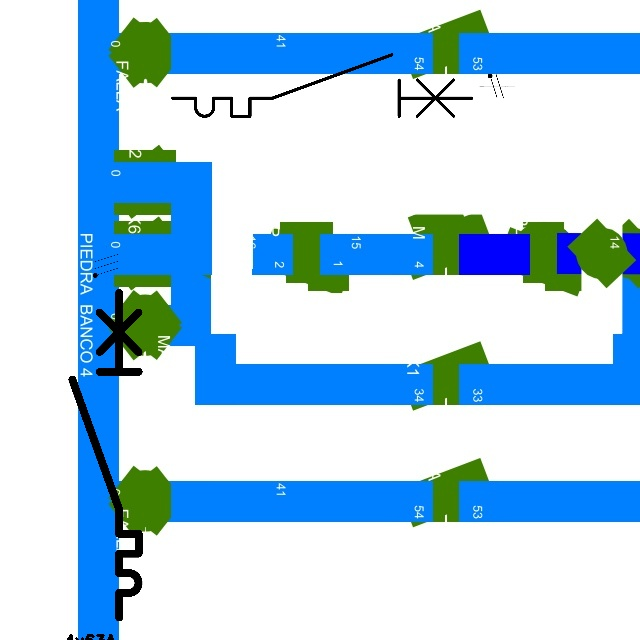interruptor_termomagnetico: (64, 284, 147, 625), (165, 47, 479, 124)
